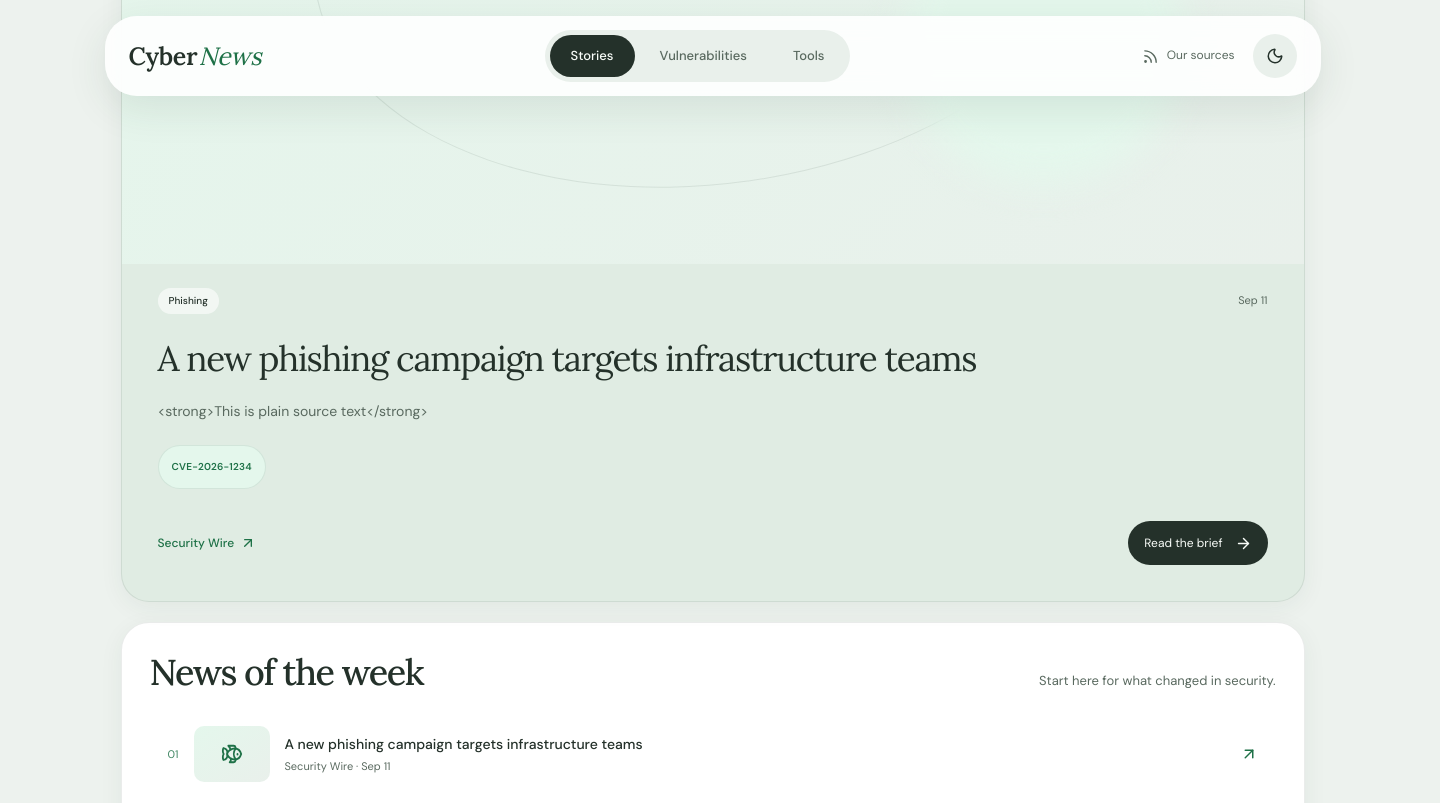
Test: CyberNews publication › opens a linked CVE directly from its news card
(page scrolled)
Click the button "CVE-2026-1234": x=212, y=467 [158,445,266,489]
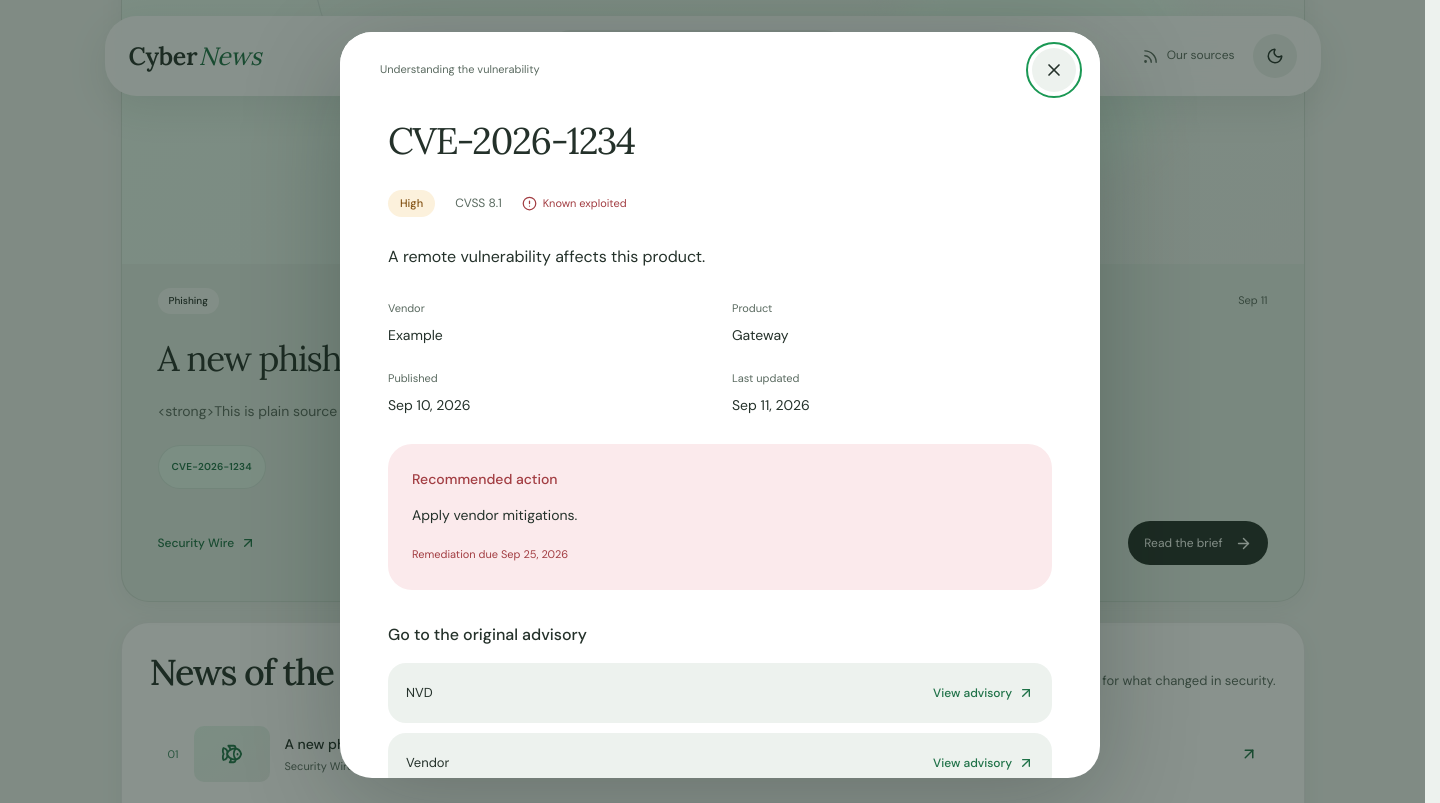
Check: the dialog "CVE-2026-1234" is shown, box [340,32,1100,778]
